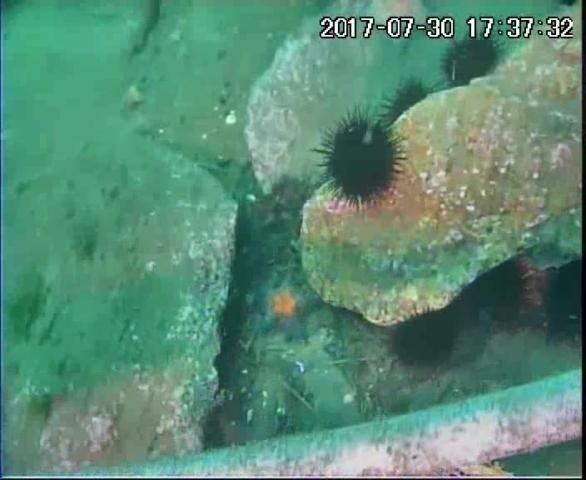echinus: (314, 108, 407, 211), (457, 255, 536, 326), (386, 304, 465, 372), (537, 253, 585, 347), (377, 77, 436, 139), (439, 32, 503, 89)
starfish: (251, 273, 325, 345)
